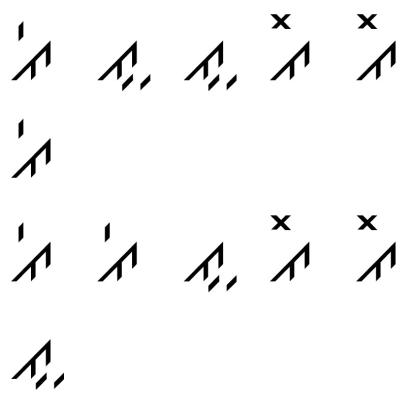kah: (176, 233, 243, 297), (175, 30, 240, 94), (88, 34, 154, 97), (9, 328, 70, 393)
ke: (85, 215, 147, 293), (4, 109, 62, 181), (3, 216, 58, 287), (9, 9, 58, 88)
ko: (349, 202, 405, 286), (343, 5, 400, 85), (265, 206, 319, 288), (258, 9, 314, 88)
